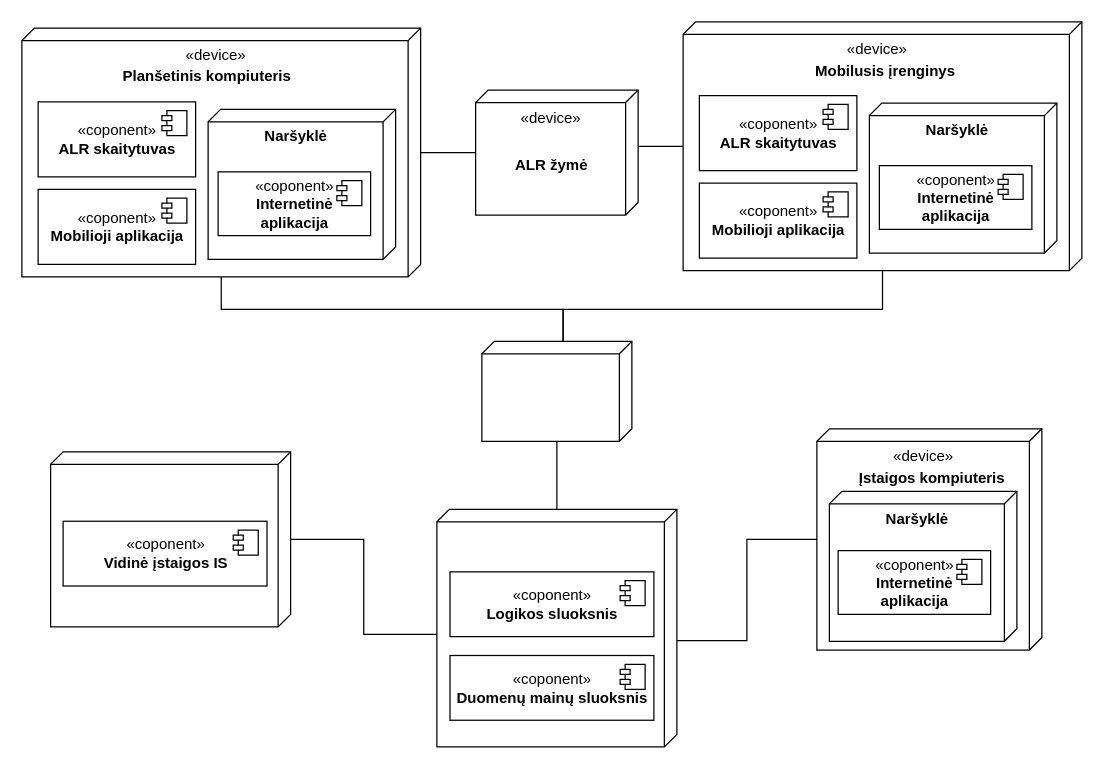
The diagram is 1104 pixels wide and 769 high, and some of its shapes have lost their labels. The box of each missing label's shape, as (x1, y1, x2, y2) in pixels:
Serveris: (436, 508, 677, 747)
Ugniasienė: (481, 340, 632, 441)
Vidiniai įstaigų serveriai: (49, 451, 291, 627)
